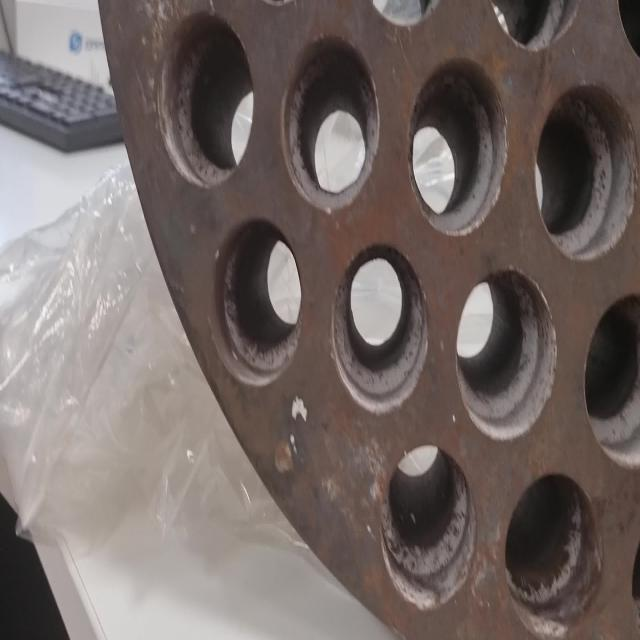Hole: (534, 78, 638, 263), (281, 28, 380, 215), (455, 265, 558, 441), (408, 56, 508, 236), (330, 241, 429, 414), (160, 11, 256, 188), (503, 471, 604, 638), (381, 444, 476, 611), (212, 216, 302, 388), (582, 292, 640, 470)
